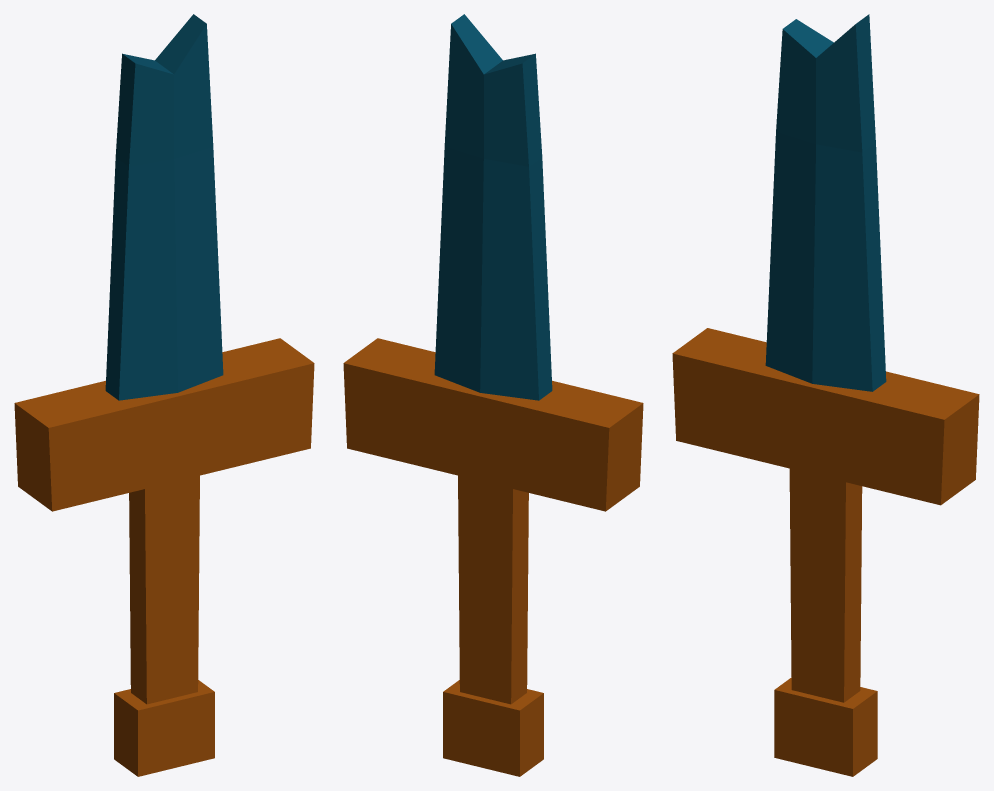
File: broken_sword_1.fbx
3 views of the same model, side by side, from view 1: azimuth 30°, elevation 25°; view 2: azimuth 150°, elevation 25°; view 3: azimuth 330°, elevation 25° (orthographic). The views are drawn at different scales.
Visible parts, largest first — view 1: Cube, Cube.002; view 2: Cube, Cube.002; view 3: Cube, Cube.002.
Part boxes in pixels (x1,y1,x2,y2): Cube: [14, 338, 314, 776]; Cube.002: [105, 14, 223, 400]; Cube: [343, 338, 643, 776]; Cube.002: [434, 14, 552, 400]; Cube: [672, 328, 979, 776]; Cube.002: [765, 14, 886, 391].
Bounding box in the file's own units: 223 × 587 × 49.75.
